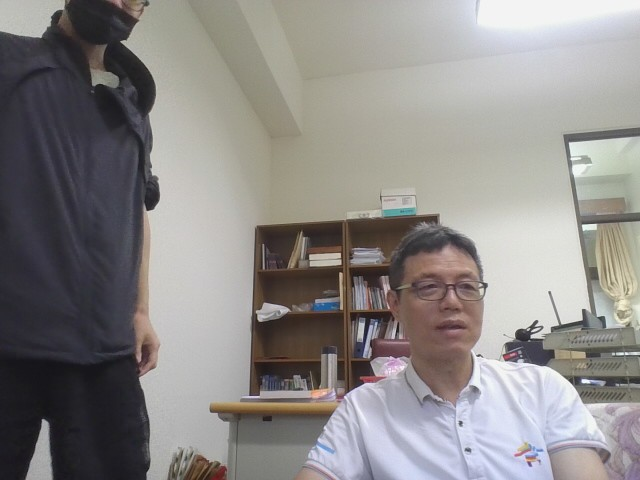No_Gloves: (131, 310, 162, 378)
No_Helmet: (382, 218, 491, 386), (54, 0, 155, 65)
person: (255, 205, 635, 480), (0, 1, 200, 479)
